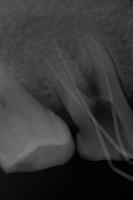Endo-Periodontal Lesion: (85, 71, 99, 98)
